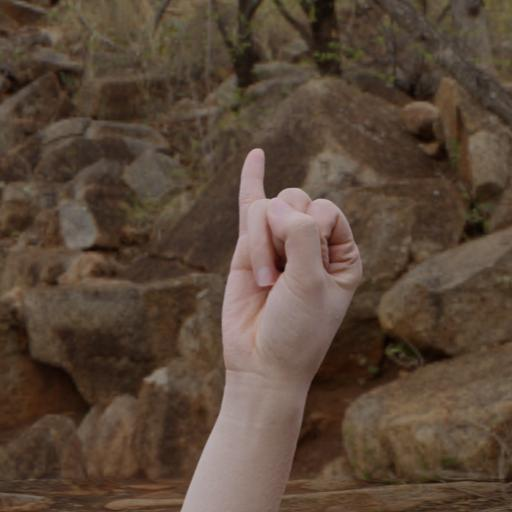I: (201, 137, 370, 512)
